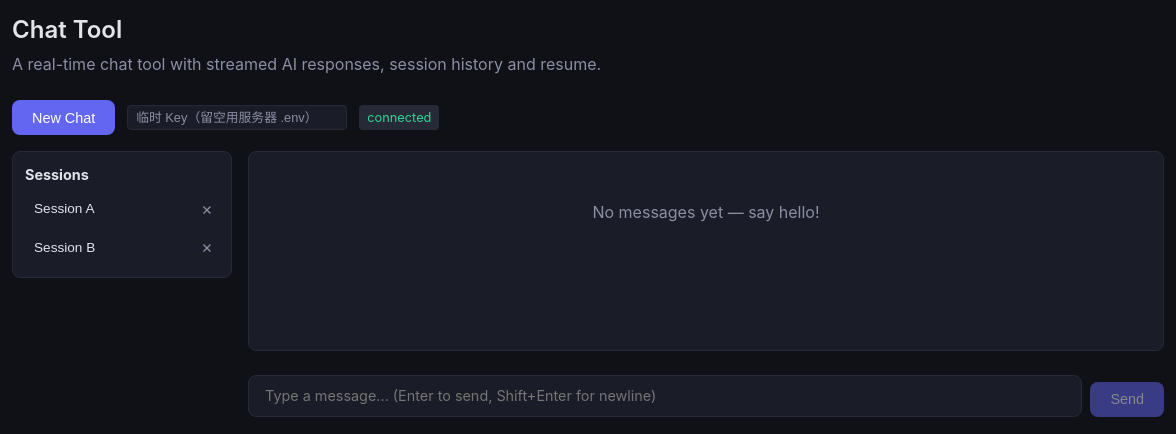
Scenario: ChatToolPlugin load errors › shows a retryable history error for unsuccessful responses
This screenshot has width=1176, height=434.
Click the button "Session A" at (108, 210), box x1=25 y1=194 x2=191 y2=226
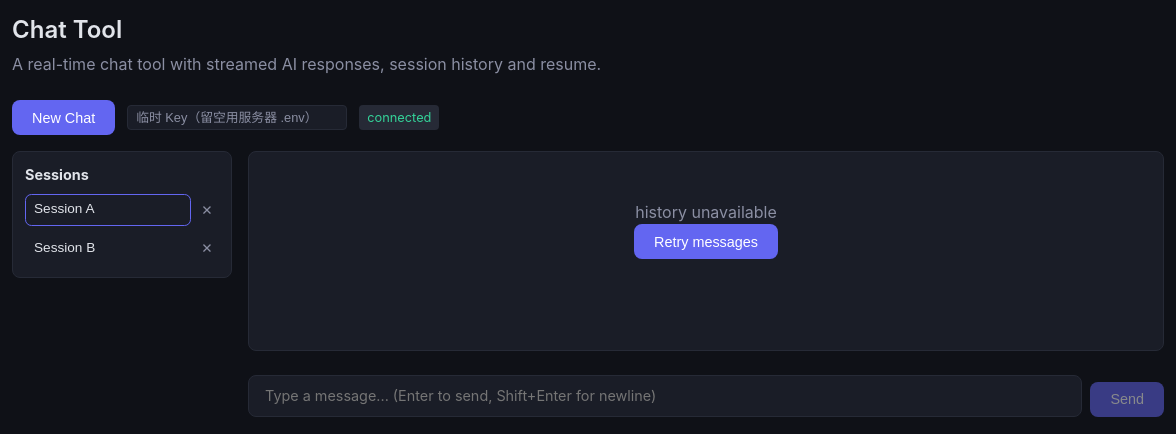
Check: the text "history unavailable" is shown, box x1=635 y1=202 x2=777 y2=222
Check: the button "Retry messages" is shown, box x1=634 y1=224 x2=778 y2=259
Check: the text "No messages yet — say hello!" is gone
